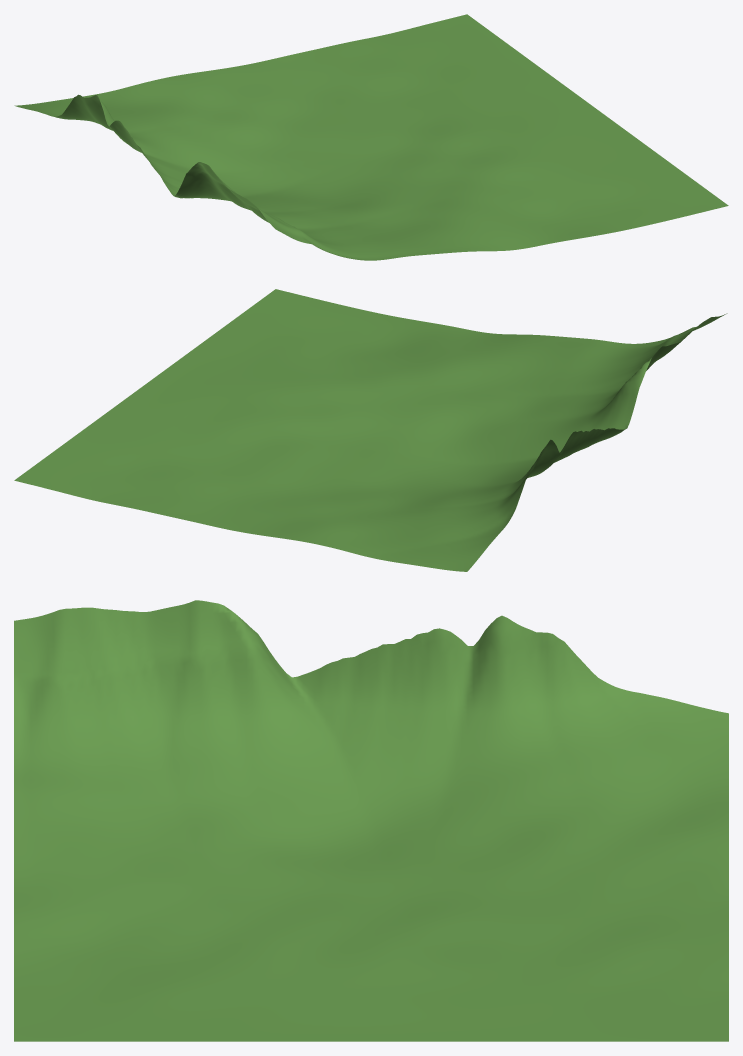
The model's file is SM_Terrain_07_02.fbx.
The picture shows the model from 3 angles, top to bottom: view 1: azimuth 30°, elevation 25°; view 2: azimuth 150°, elevation 25°; view 3: azimuth 270°, elevation 25°; orthographic projection. The views are drawn at different scales.
Parts seen in each view (by area): view 1: SM_Terrain_07_02; view 2: SM_Terrain_07_02; view 3: SM_Terrain_07_02.
Part boxes in pixels (x1,y1,x2,y2): SM_Terrain_07_02: [14, 14, 728, 260]; SM_Terrain_07_02: [14, 289, 727, 571]; SM_Terrain_07_02: [14, 600, 728, 1041].
Size of the model in its own units: 384 by 84.43 by 384.
